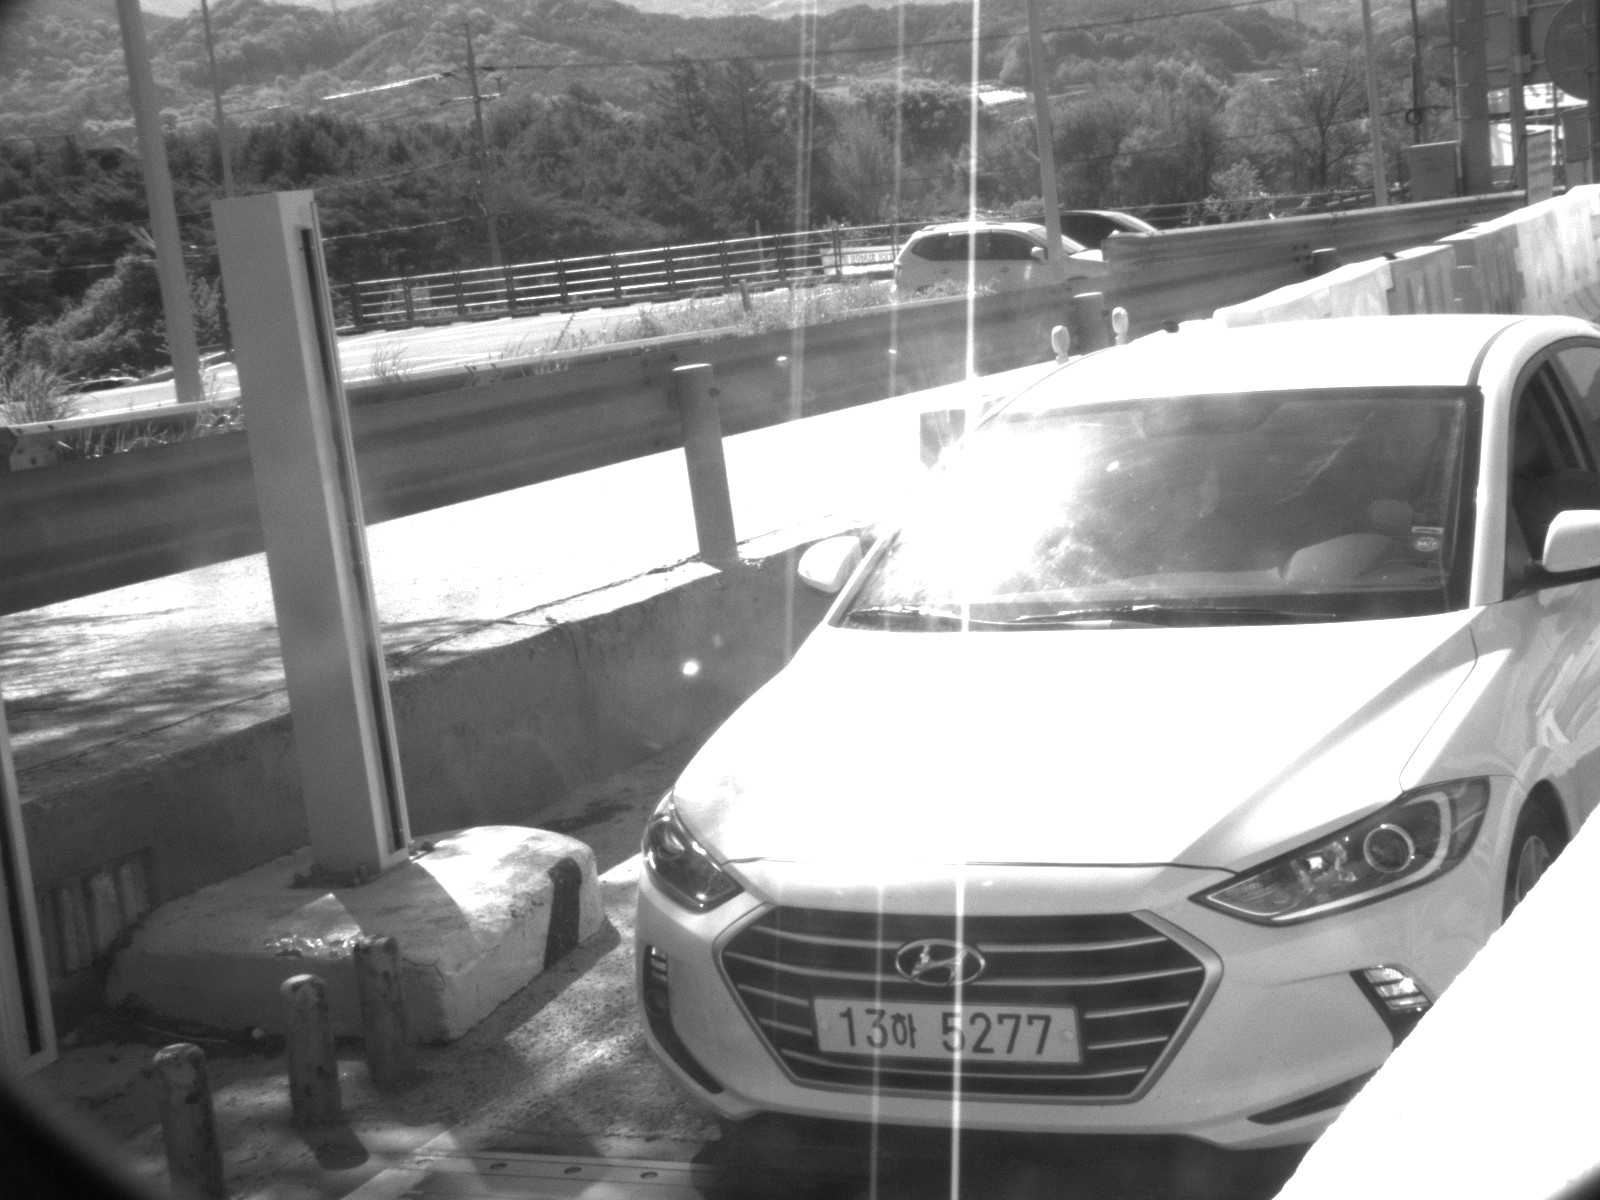car: (634, 310, 1600, 1152), (897, 218, 1109, 300), (1030, 208, 1172, 267)
plate: (805, 993, 1087, 1067)
